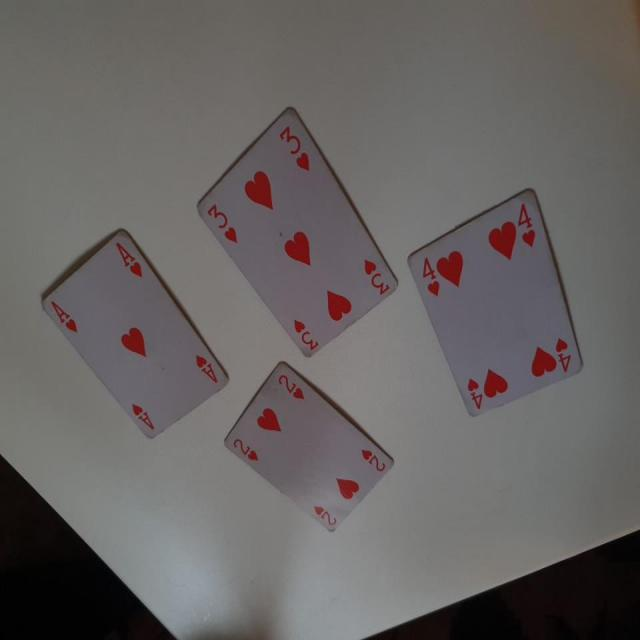2 Hearts: (216, 354, 404, 553)
3 Hearts: (188, 108, 407, 366)
4 Hearts: (404, 175, 583, 432)
A Hearts: (40, 227, 230, 452)
